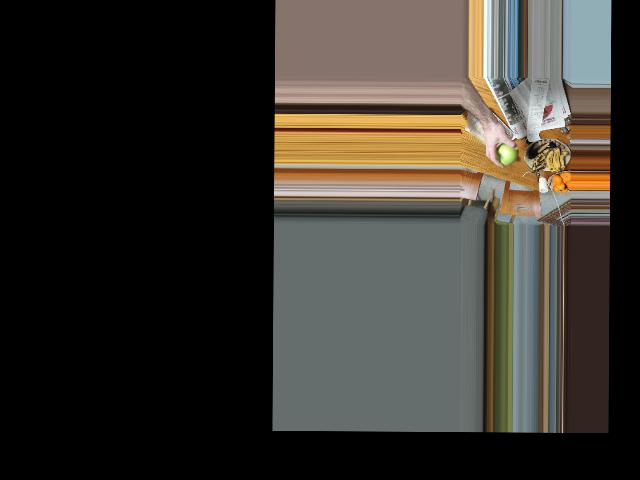apple: (494, 140, 517, 166)
